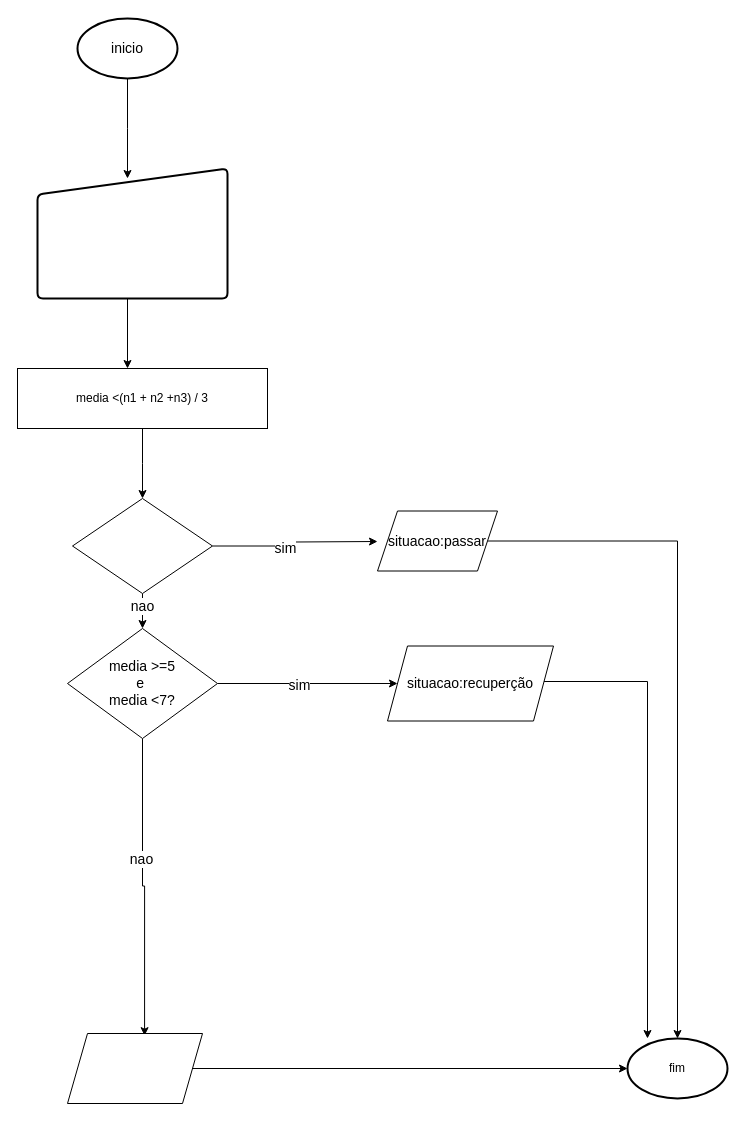
The diagram is 746 pixels wide and 1121 high, and some of its shapes have lost their labels. Each missing label, with the centre of its shape:
ler nota 1 nota 2 nota 3: the point at 132,233
media >=7?: the point at 142,546
situação:reprovado: the point at 134,1068
